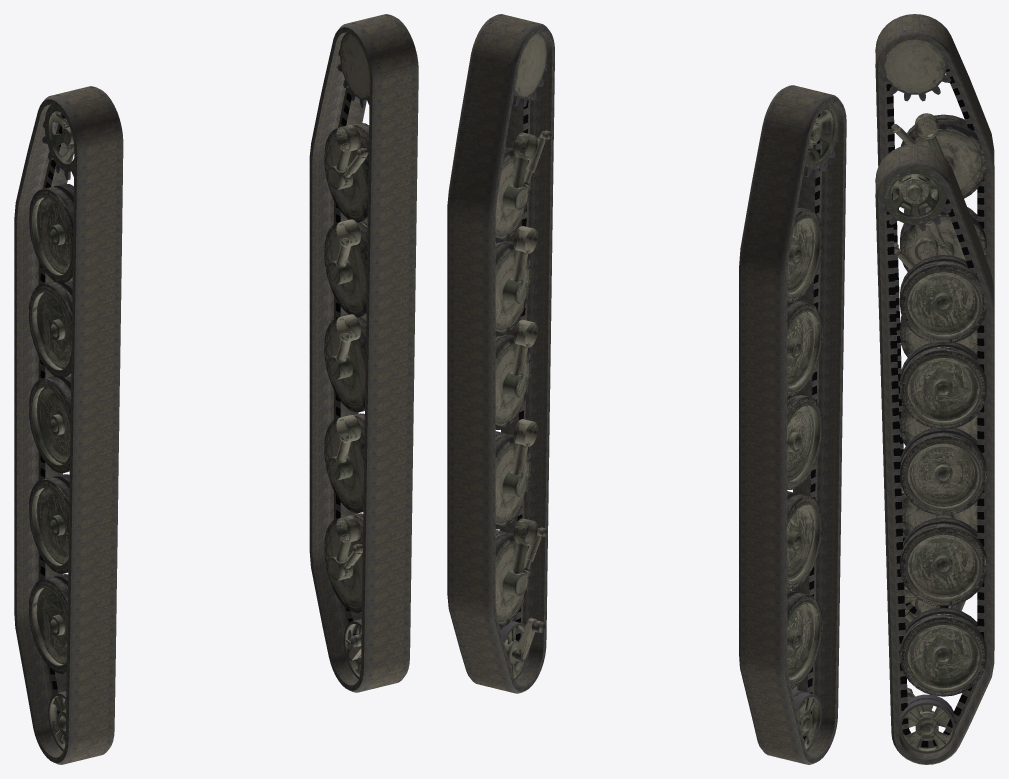
File: Chassis.glb
3 views of the same model, side by side, from view 1: azimuth 30°, elevation 25°; view 2: azimuth 150°, elevation 25°; view 3: azimuth 270°, elevation 25° (orthographic). The views are drawn at different scales.
Visible parts, largest first — view 1: set_0_group_0, set_1_group_0, set_3_group_0, set_2_group_0; view 2: set_0_group_0, set_1_group_0, set_3_group_0, set_2_group_0; view 3: set_3_group_0, set_1_group_0, set_2_group_0, set_0_group_0.
Boxes of the visible parts, x1,y1,x2,y2 form: set_0_group_0: (14,86,123,764); set_1_group_0: (309,14,418,692); set_3_group_0: (324,14,414,679); set_2_group_0: (29,86,119,751); set_0_group_0: (739,85,846,764); set_1_group_0: (447,14,554,693); set_3_group_0: (475,14,551,680); set_2_group_0: (766,85,838,751); set_3_group_0: (875,145,986,753); set_1_group_0: (875,144,994,764); set_2_group_0: (875,15,986,616); set_0_group_0: (875,14,994,627).
Size of the model in its own units: 2.78 by 5.19 by 0.929.
Materials: 4 (4 with a texture image).
